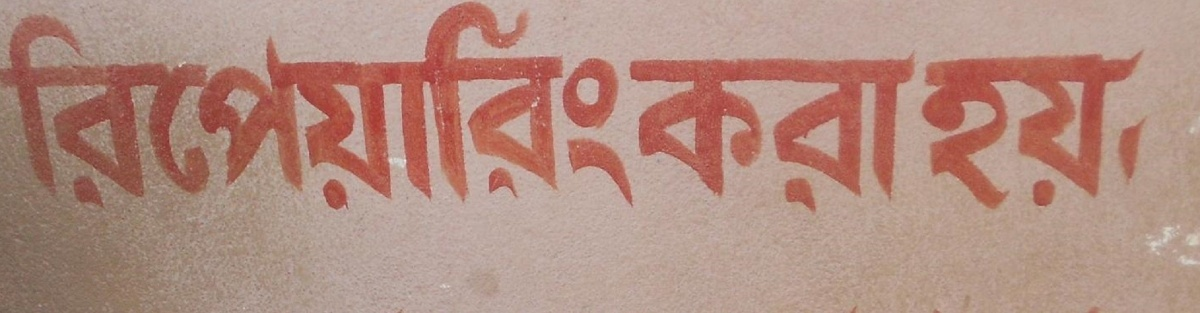text: (17, 1, 32, 213), (33, 1, 48, 213), (49, 1, 64, 213), (65, 1, 80, 213), (81, 1, 96, 213), (97, 1, 112, 213), (113, 1, 128, 213), (129, 1, 144, 213), (145, 1, 160, 213), (161, 1, 176, 213), (177, 1, 192, 213), (193, 1, 208, 213), (209, 1, 224, 213), (225, 1, 240, 213), (241, 1, 256, 213), (257, 1, 272, 213), (273, 1, 288, 213), (289, 1, 304, 213), (305, 1, 320, 213), (321, 1, 336, 213), (337, 1, 352, 213), (353, 1, 368, 213), (369, 1, 384, 213), (385, 1, 400, 213), (401, 1, 416, 213), (417, 1, 432, 213), (433, 1, 448, 213), (449, 1, 464, 213), (465, 1, 480, 213), (481, 1, 496, 213), (497, 1, 512, 213), (513, 1, 528, 213), (529, 1, 544, 213), (545, 1, 560, 213), (561, 1, 576, 213), (577, 1, 592, 213), (593, 1, 608, 213), (609, 1, 624, 213), (3, 1, 16, 213), (641, 51, 656, 219), (657, 51, 672, 219), (673, 51, 688, 219), (689, 51, 704, 219), (705, 51, 720, 219), (721, 51, 736, 219), (737, 51, 752, 219), (753, 51, 768, 219), (769, 51, 784, 219), (785, 51, 800, 219), (801, 51, 816, 219), (817, 51, 832, 219), (833, 51, 848, 219), (849, 51, 864, 219), (865, 51, 880, 219), (881, 51, 896, 219), (897, 51, 912, 219), (929, 50, 944, 213), (945, 50, 960, 213), (961, 50, 976, 213), (977, 50, 992, 213), (993, 50, 1008, 213), (1009, 50, 1024, 213), (1025, 50, 1040, 213), (1041, 50, 1056, 213), (1057, 50, 1072, 213), (1073, 50, 1088, 213), (1089, 50, 1104, 213), (1105, 50, 1120, 213), (1121, 50, 1136, 213), (916, 50, 928, 213), (1137, 50, 1149, 213), (625, 1, 634, 213), (629, 51, 640, 219), (913, 51, 922, 219)
